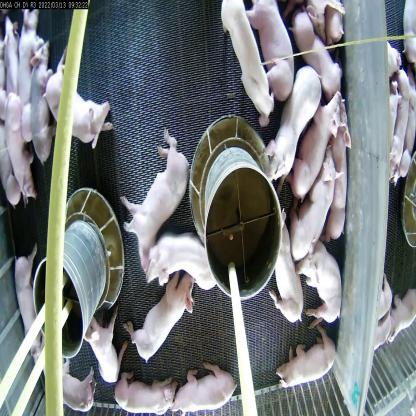Pig: (121, 131, 192, 248), (218, 0, 273, 127), (48, 60, 110, 166), (270, 70, 322, 181), (246, 0, 304, 97), (293, 92, 341, 206), (273, 327, 343, 404), (134, 275, 198, 359), (144, 231, 217, 298), (291, 163, 339, 257), (275, 215, 308, 324), (12, 245, 42, 359), (304, 240, 348, 314), (38, 359, 95, 415), (24, 39, 53, 149), (82, 318, 127, 388), (174, 372, 244, 415), (113, 368, 174, 415), (0, 92, 32, 181), (388, 64, 412, 182)
